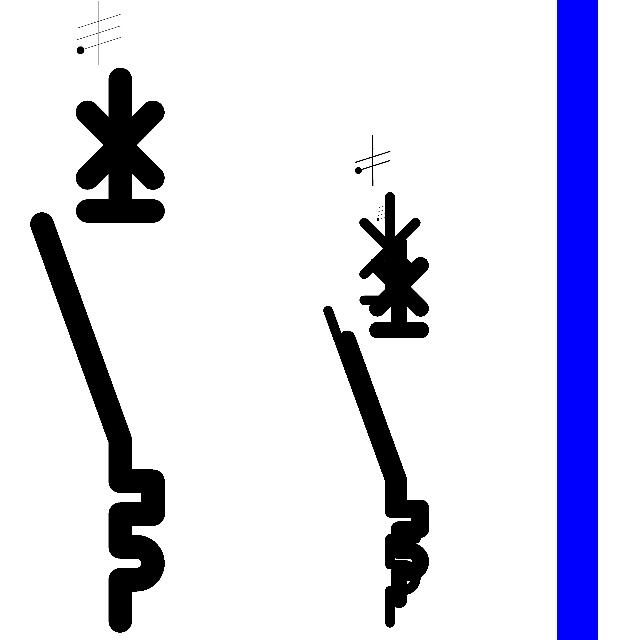interruptor_termomagnetico: (28, 65, 167, 635), (317, 185, 427, 633), (338, 234, 430, 609)
